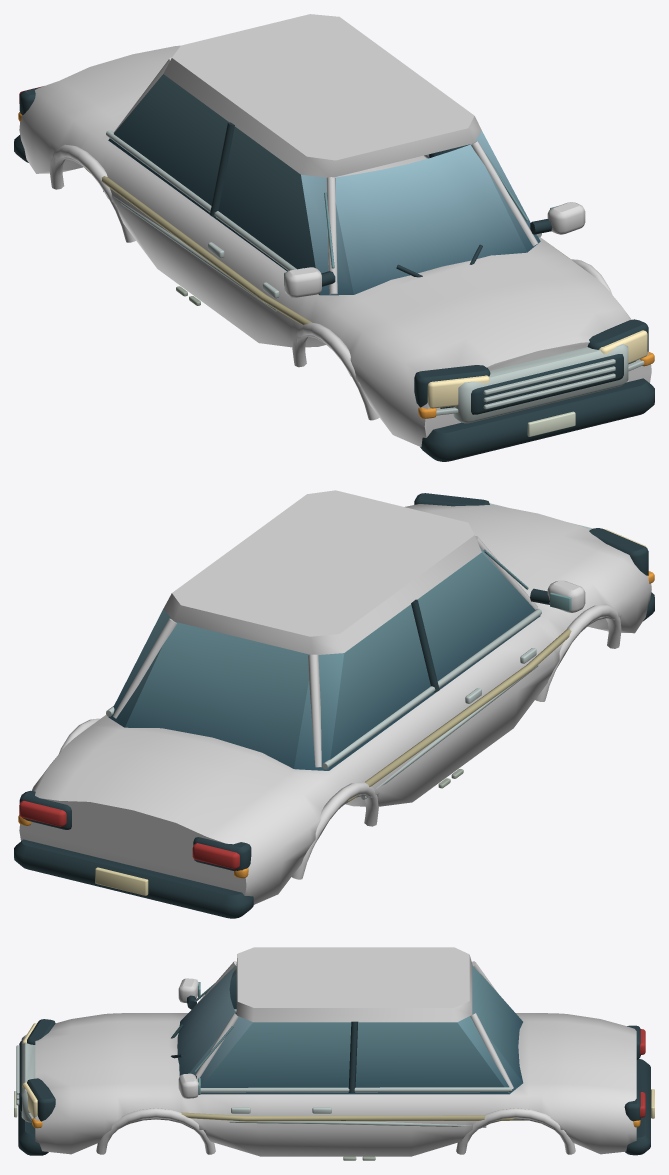
File: regency.glb
3 views of the same model, one above another, from view 1: azimuth 30°, elevation 25°; view 2: azimuth 150°, elevation 25°; view 3: azimuth 270°, elevation 25° (orthographic). The views are drawn at different scales.
Parts seen in each view (by area): view 1: Chassis, Headlamps; view 2: Chassis, BrakeLamps; view 3: Chassis, Headlamps.
Part boxes in pixels (x1,y1,x2,y2): Chassis: [14, 14, 654, 461]; Headlamps: [427, 330, 647, 408]; Chassis: [14, 490, 654, 918]; BrakeLamps: [19, 801, 239, 869]; Chassis: [14, 947, 654, 1160]; Headlamps: [22, 1023, 37, 1118].
Bounding box in the file's own units: 1.84 × 1.12 × 4.65.
